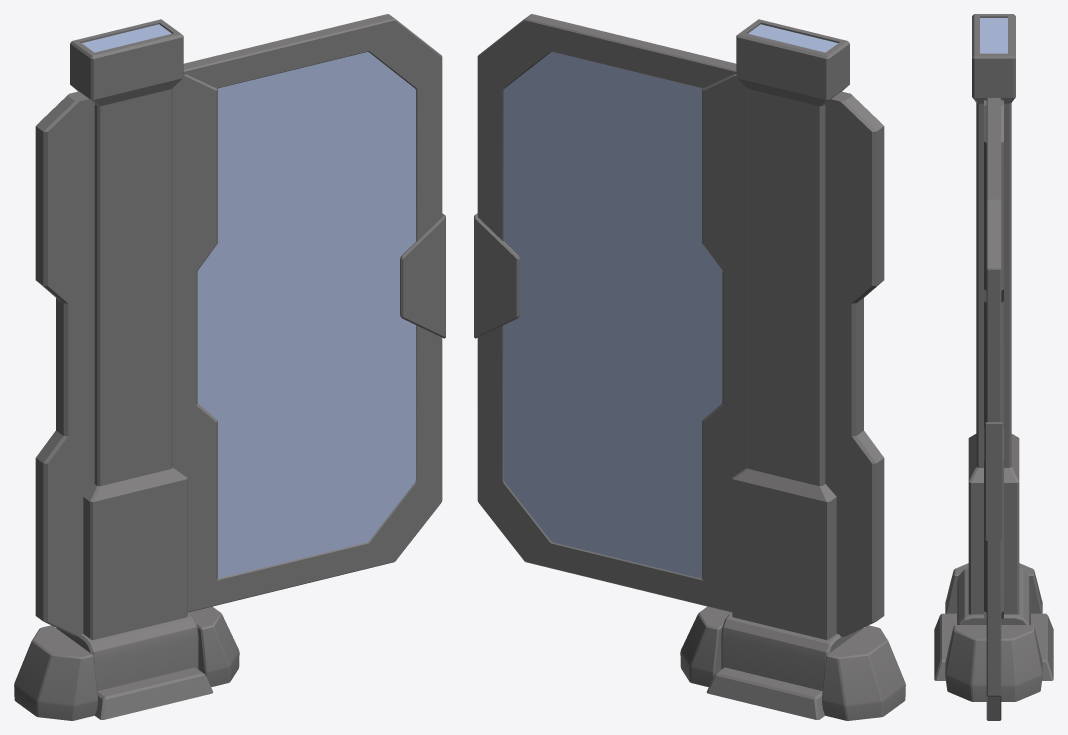
File: Portique_Barriere_02_LP.fbx
The picture shows the model from 3 angles, left to right: view 1: azimuth 30°, elevation 25°; view 2: azimuth 150°, elevation 25°; view 3: azimuth 270°, elevation 25°; orthographic projection. The views are drawn at different scales.
Parts seen in each view (by area): view 1: PortiqueD_B02Verre_low, PortiqueD_B02Pilier1_low, PortiqueD_B02Pilier2_low, PortiqueD_B02Cadre1_low, PortiqueD_B02Socle3_low, PortiqueD_B02Socle2_low, PortiqueD_B02Cadre2_low, PortiqueD_B02Socle1_low, PortiqueD_B02PilierVerre_low; view 2: PortiqueD_B02Verre_low, PortiqueD_B02Pilier1_low, PortiqueD_B02Pilier2_low, PortiqueD_B02Cadre1_low, PortiqueD_B02Socle3_low, PortiqueD_B02Socle2_low, PortiqueD_B02Cadre2_low, PortiqueD_B02Socle1_low, PortiqueD_B02PilierVerre_low; view 3: PortiqueD_B02Pilier1_low, PortiqueD_B02Cadre1_low, PortiqueD_B02Socle3_low, PortiqueD_B02Pilier2_low, PortiqueD_B02Cadre2_low, PortiqueD_B02Socle1_low, PortiqueD_B02Socle2_low, PortiqueD_B02PilierVerre_low.
Part boxes in pixels (<box>): PortiqueD_B02Verre_low: <box>197,52,415,578</box>; PortiqueD_B02Pilier1_low: <box>70,19,187,639</box>; PortiqueD_B02Pilier2_low: <box>35,74,217,636</box>; PortiqueD_B02Cadre1_low: <box>183,14,442,612</box>; PortiqueD_B02Socle3_low: <box>14,606,239,720</box>; PortiqueD_B02Socle2_low: <box>56,613,198,690</box>; PortiqueD_B02Cadre2_low: <box>400,213,445,338</box>; PortiqueD_B02Socle1_low: <box>95,667,213,719</box>; PortiqueD_B02PilierVerre_low: <box>82,24,171,52</box>; PortiqueD_B02Verre_low: <box>504,52,722,578</box>; PortiqueD_B02Pilier1_low: <box>732,19,849,639</box>; PortiqueD_B02Pilier2_low: <box>702,74,884,636</box>; PortiqueD_B02Cadre1_low: <box>477,14,736,612</box>; PortiqueD_B02Socle3_low: <box>680,606,905,720</box>; PortiqueD_B02Socle2_low: <box>721,613,863,690</box>; PortiqueD_B02Cadre2_low: <box>474,213,519,338</box>; PortiqueD_B02Socle1_low: <box>706,667,824,719</box>; PortiqueD_B02PilierVerre_low: <box>748,24,837,52</box>; PortiqueD_B02Pilier1_low: <box>968,14,1019,614</box>; PortiqueD_B02Cadre1_low: <box>986,98,1001,720</box>; PortiqueD_B02Socle3_low: <box>945,563,1042,701</box>; PortiqueD_B02Pilier2_low: <box>984,100,1003,619</box>; PortiqueD_B02Cadre2_low: <box>984,422,1003,540</box>; PortiqueD_B02Socle1_low: <box>934,613,1053,680</box>; PortiqueD_B02Socle2_low: <box>957,568,1030,624</box>; PortiqueD_B02PilierVerre_low: <box>980,18,1007,53</box>.
Size of the model in its own units: 1.25 by 1.86 by 0.3236.
